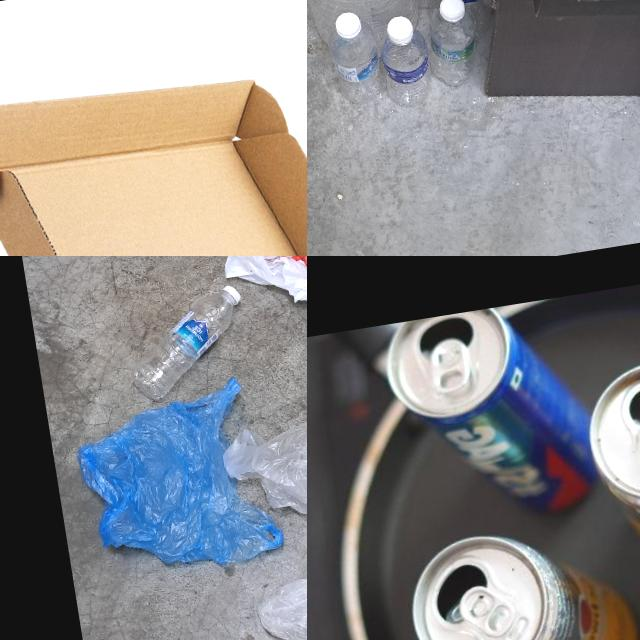aba de lata: (456, 581, 517, 640), (428, 335, 473, 393)
garrafa plástica: (0, 22, 307, 256), (122, 291, 246, 402), (307, 0, 433, 76), (322, 13, 387, 107), (423, 0, 481, 94), (373, 26, 439, 106), (414, 0, 507, 41)
lata: (380, 294, 606, 538), (400, 511, 640, 640), (581, 343, 640, 591)
sacola plástica: (70, 373, 286, 584), (211, 351, 307, 564), (215, 256, 307, 389), (250, 538, 307, 640)
tampa plástica: (382, 10, 418, 49), (331, 8, 365, 42), (435, 0, 466, 29), (222, 284, 242, 307)
